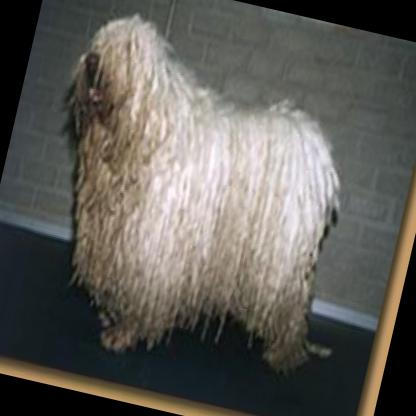komondor: (10, 1, 376, 402)
